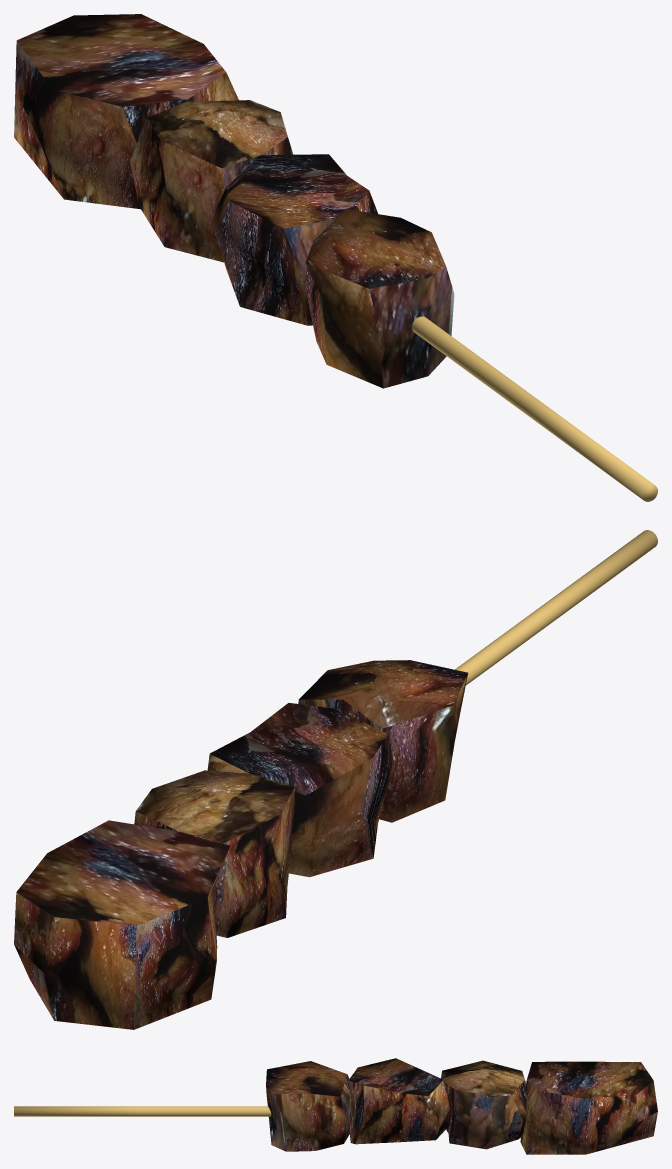
Rendered from beefsatay4.fbx.
The picture shows the model from 3 angles, top to bottom: view 1: azimuth 30°, elevation 25°; view 2: azimuth 150°, elevation 25°; view 3: azimuth 270°, elevation 25°; orthographic projection. The views are drawn at different scales.
Visible parts, largest first — view 1: 4beefsjoined; view 2: 4beefsjoined; view 3: 4beefsjoined.
Part boxes in pixels (left/top/right/bottom): 4beefsjoined: left=14, top=14, right=657, bottom=501; 4beefsjoined: left=14, top=530, right=657, bottom=1029; 4beefsjoined: left=14, top=1058, right=657, bottom=1154.
Bounding box in the file's own units: 151 × 102 × 848.
Materials: 2 (1 with a texture image).
